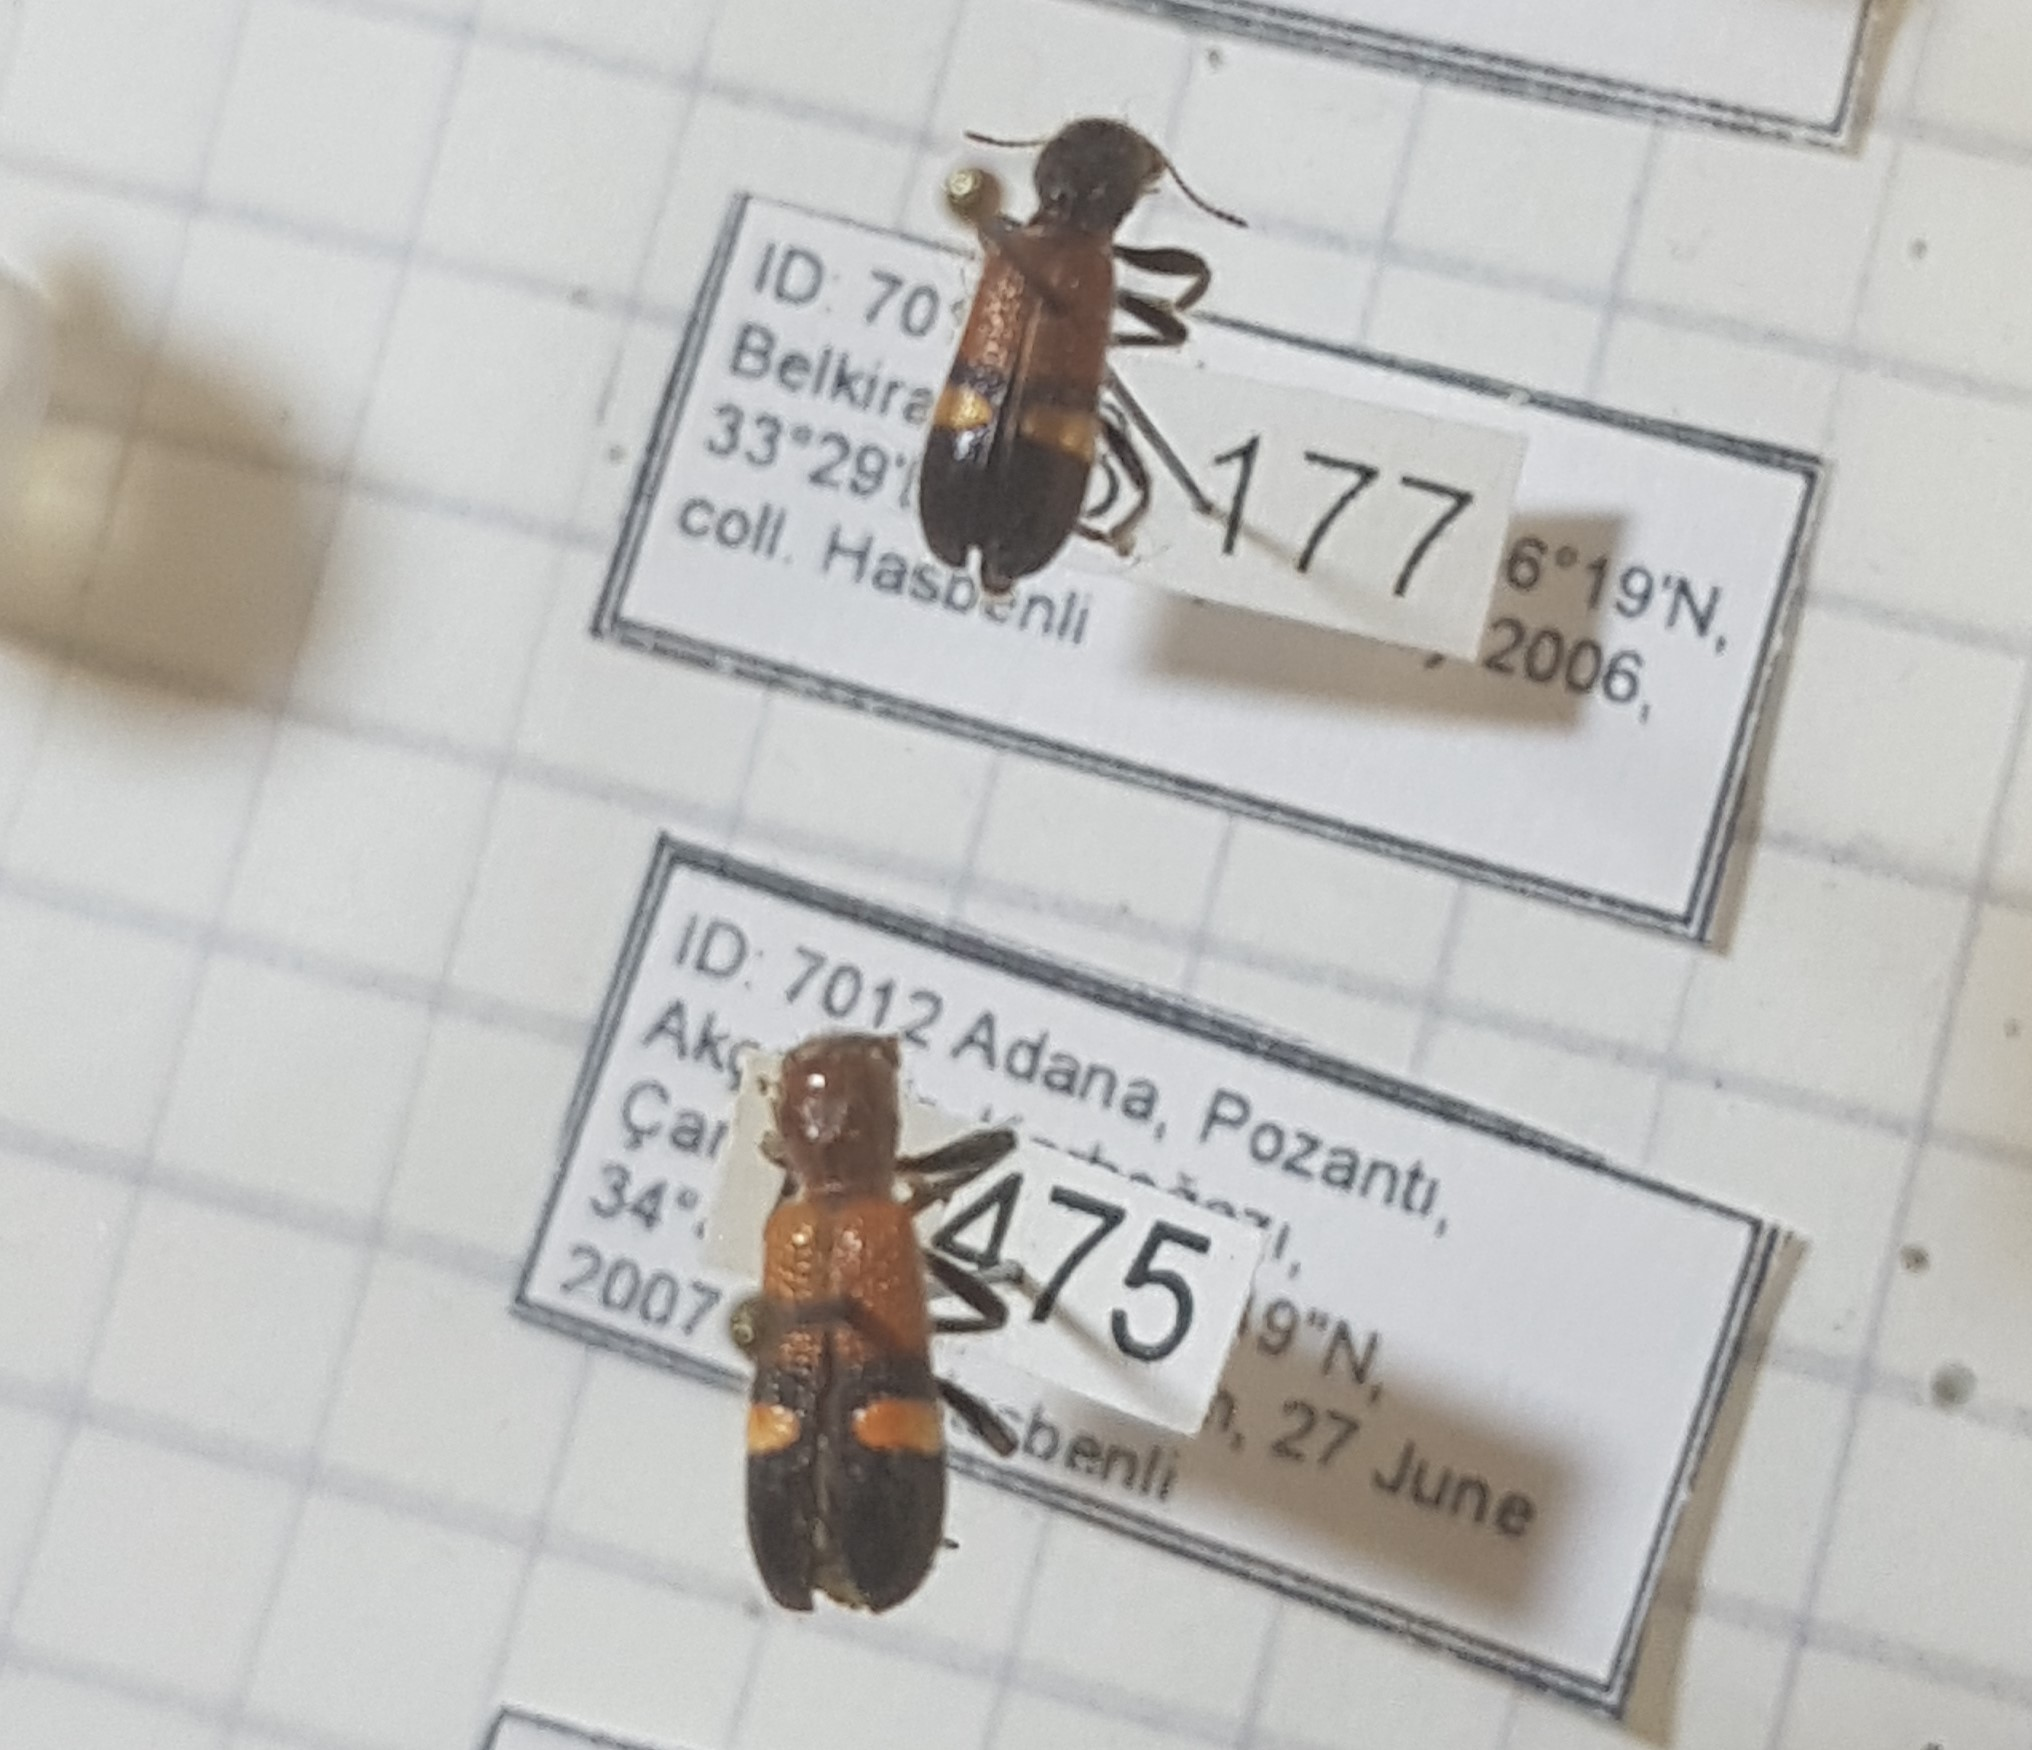opilo_taeniatus: (743, 1026, 1021, 1624), (919, 111, 1153, 593)
